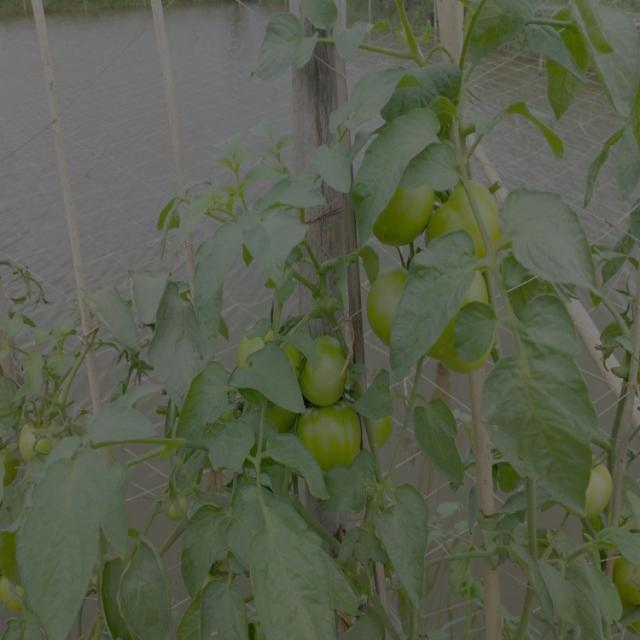tomato: (435, 178, 505, 265), (298, 404, 370, 487), (443, 271, 500, 372), (364, 258, 431, 338), (370, 172, 439, 243), (300, 331, 354, 406), (234, 313, 293, 378), (572, 449, 620, 516), (18, 409, 62, 463), (1, 572, 35, 623), (614, 548, 640, 605), (369, 412, 399, 460), (163, 483, 195, 523)
